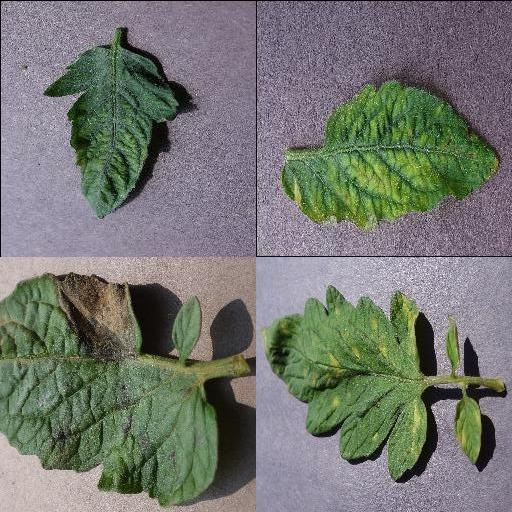Late Blight: (0, 270, 219, 510)
Leaf Mold: (260, 285, 428, 481), (453, 394, 481, 466)
Mosaic Virus: (279, 78, 503, 227), (40, 43, 179, 218)
